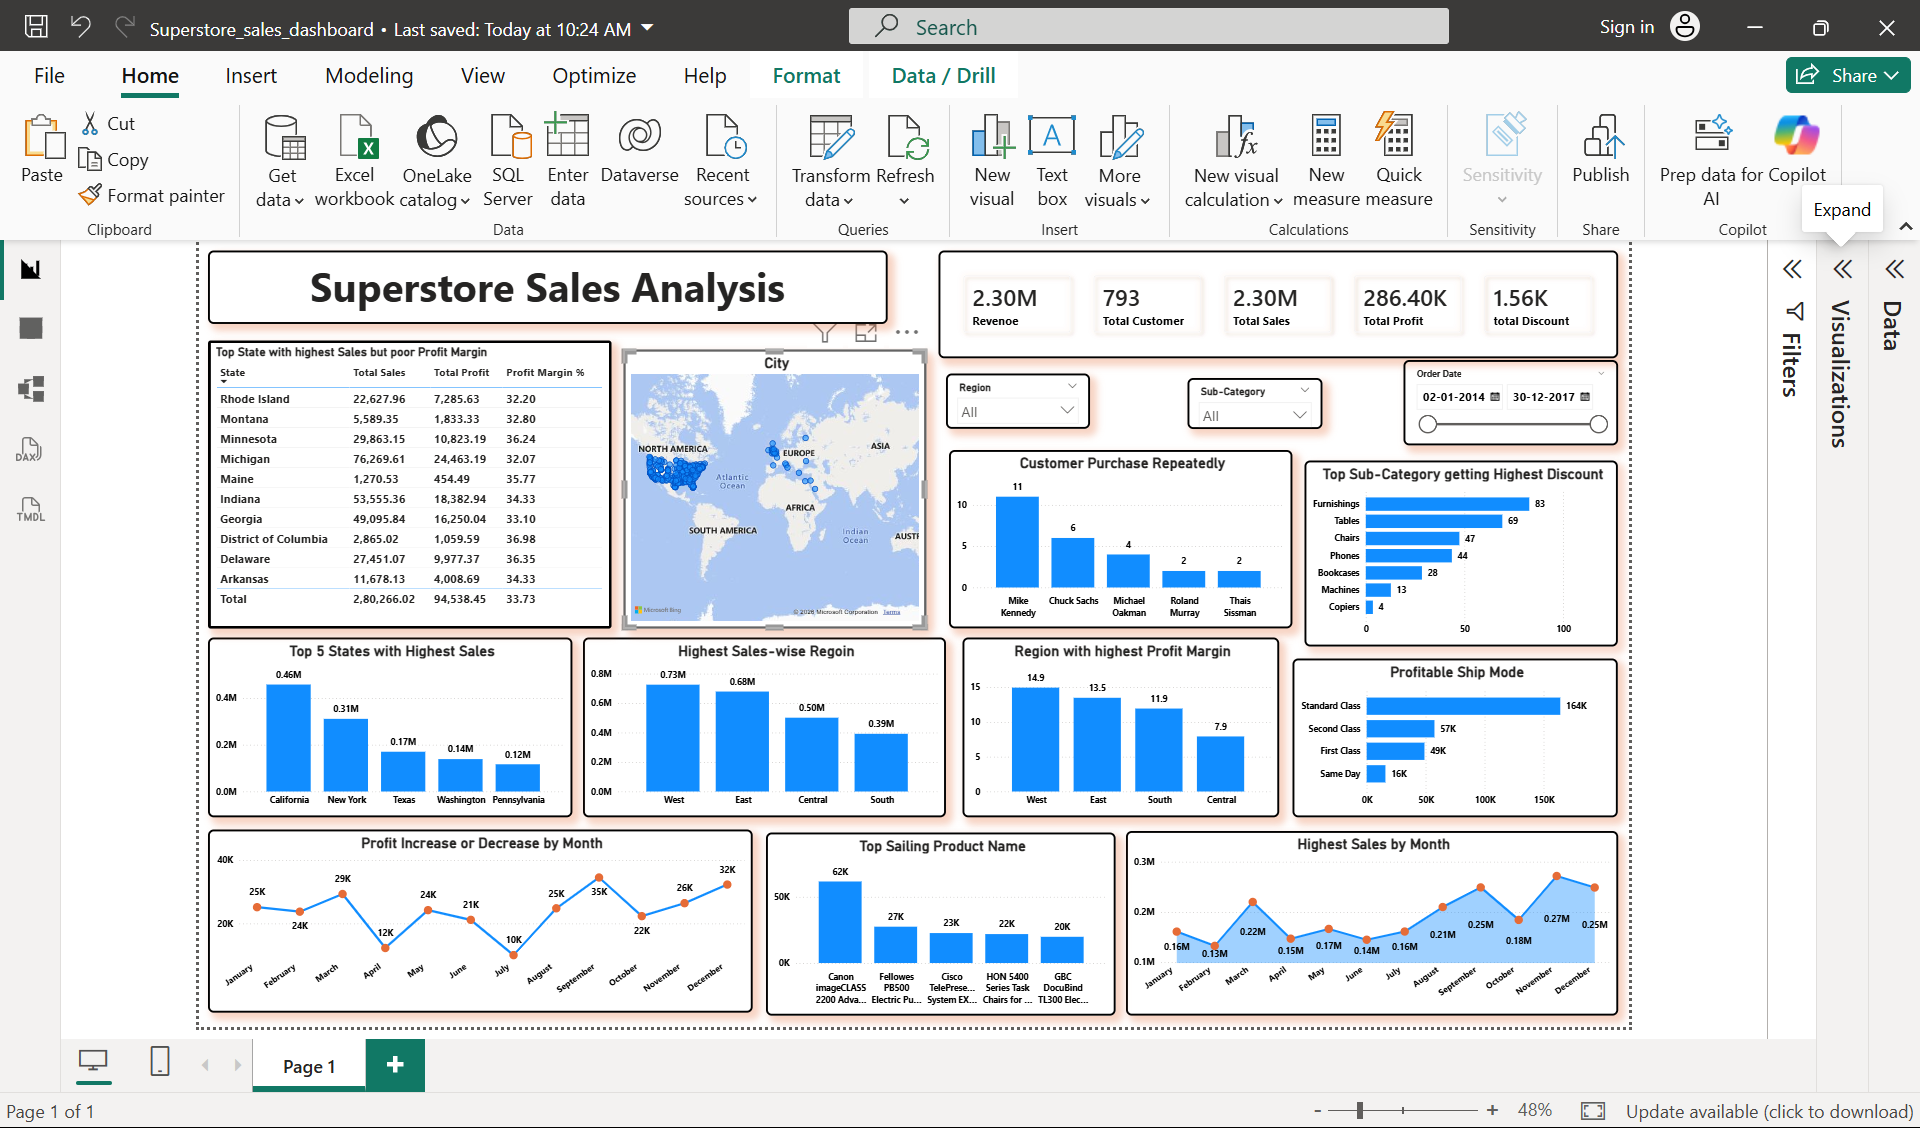

This screenshot's page, from the dashboard's own definition file:
{"tool":"powerbi","page":{"name":"Page 1","canvas":[2000,1100],"ordinal":0},"visuals":[{"type":"cardVisual","fields":{"Data":["public sales.Total Revenoe","public sales.Total Customer","public sales.Total Sales","public sales.Total Profit","public sales.total Discount"]},"box":[1033.6,14.7,949.8,151],"z":0},{"type":"columnChart","title":"Highest Sales-wise Regoin","fields":{"Category":["public sales.Region"],"Y":["Sum(public sales.Sales)"]},"box":[536.7,555.6,507.4,251.6],"z":1000},{"type":"lineChart","title":"Profit Increase or Decrease by Month","fields":{"Y":["Sum(public sales.Profit)"],"Category":["public sales.Order Date.Variation.Date Hierarchy.Month"]},"box":[12.6,824,761.1,255.8],"z":2000},{"type":"map","fields":{"Category":["public sales.City"]},"box":[593.3,153.1,423.5,390],"z":3000},{"type":"columnChart","title":"Top 5 States with Highest Sales","fields":{"Y":["public sales.Total Sales"],"Category":["public sales.State"]},"box":[12.6,555.6,509.5,251.6],"z":4000},{"type":"clusteredColumnChart","title":"Customer Purchase Repeatedly","fields":{"Y":["CountNonNull(public sales.Order ID)"],"Category":["public sales.Customer Name"]},"box":[1048.3,293.5,480.1,249.5],"z":5000},{"type":"textbox","box":[12.6,14.7,949.8,102.7],"z":6000},{"type":"stackedAreaChart","title":"Highest Sales by Month","fields":{"Y":["public sales.Total Sales"],"Category":["public sales.Order Date.Variation.Date Hierarchy.Month"]},"box":[1295.7,826.1,687.7,257.9],"z":7000},{"type":"tableEx","title":"Top State with highest Sales but poor Profit Margin","fields":{"Values":["public sales.State","public sales.Total Sales","public sales.Total Profit","public sales.Profit Margin %"]},"box":[12.6,140.5,564,402.5],"z":8000},{"type":"barChart","title":" Profitable  Ship Mode","fields":{"Category":["public sales.Ship Mode"],"Y":["Sum(public sales.Profit)"]},"box":[1528.4,585,455,222.2],"z":9000},{"type":"columnChart","title":"Region with highest Profit Margin ","fields":{"Category":["public sales.Region"],"Y":["public sales.Profit Margin %"]},"box":[1067.2,555.6,442.4,251.6],"z":10000},{"type":"columnChart","title":"Top Sailing Product Name","fields":{"Category":["public sales.Product Name"],"Y":["Sum(public sales.Sales)"]},"box":[792.5,828.2,488.5,255.8],"z":11000},{"type":"slicer","fields":{"Values":["public sales.Region"]},"box":[1044.1,186.6,201.3,77.6],"z":12000},{"type":"slicer","fields":{"Values":["public sales.Sub-Category"]},"box":[1381.7,192.9,188.7,71.3],"z":13000},{"type":"slicer","fields":{"Values":["public sales.Order Date"]},"box":[1683.6,167.7,299.8,119.5],"z":14000},{"type":"barChart","title":"Top Sub-Category getting Highest Discount","fields":{"Y":["public sales.total Discount"],"Category":["public sales.Sub-Category"]},"box":[1545.2,308.2,438.2,260],"z":15000}]}

Visuals, with their boxes on the page's 2000x1100 design canvas (x1, y1, x2, y2). These are canvas units, not pixel positions in the 1920x1128 screenshot, which may show the page scaled, cropped or inside an application window:
cardVisual - public sales.Total Revenoe x public sales.Total Customer: [1034,15,1983,166]
"Highest Sales-wise Regoin" columnChart: [537,556,1044,807]
"Profit Increase or Decrease by Month" lineChart: [13,824,774,1080]
map - public sales.City: [593,153,1017,543]
"Top 5 States with Highest Sales" columnChart: [13,556,522,807]
"Customer Purchase Repeatedly" clusteredColumnChart: [1048,294,1528,543]
textbox: [13,15,962,117]
"Highest Sales by Month" stackedAreaChart: [1296,826,1983,1084]
"Top State with highest Sales but poor Profit Margin" tableEx: [13,140,577,543]
" Profitable  Ship Mode" barChart: [1528,585,1983,807]
"Region with highest Profit Margin " columnChart: [1067,556,1510,807]
"Top Sailing Product Name" columnChart: [792,828,1281,1084]
slicer - public sales.Region: [1044,187,1245,264]
slicer - public sales.Sub-Category: [1382,193,1570,264]
slicer - public sales.Order Date: [1684,168,1983,287]
"Top Sub-Category getting Highest Discount" barChart: [1545,308,1983,568]
